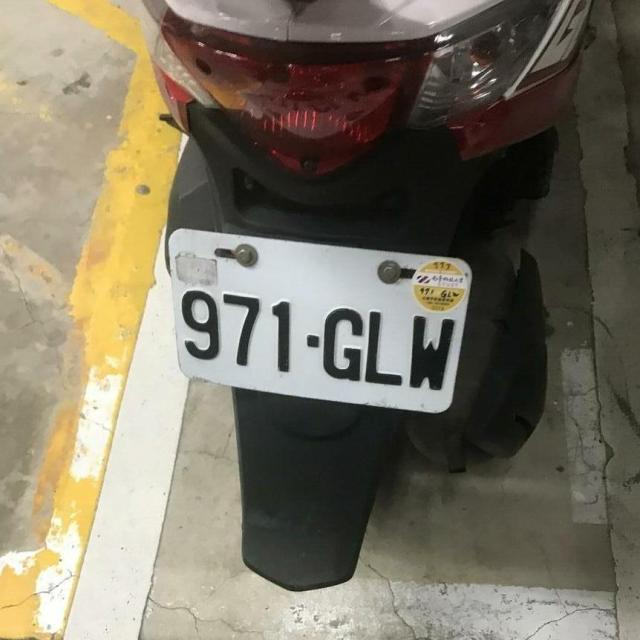W: (158, 220, 480, 416)
